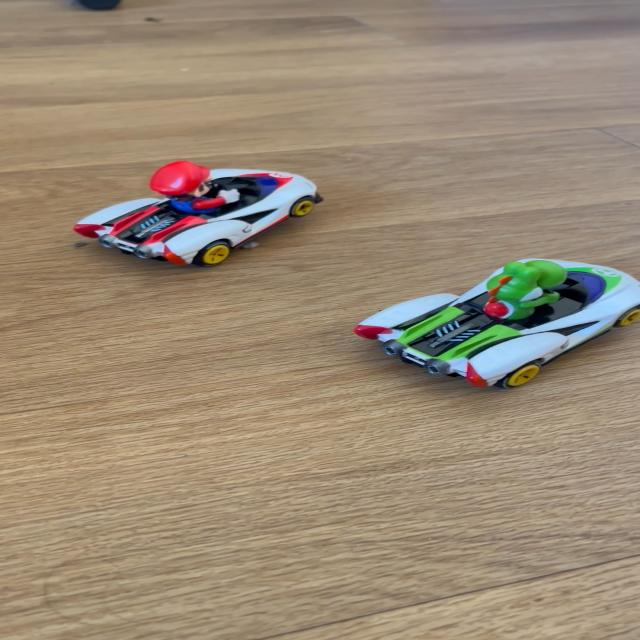mario: (58, 156, 333, 274)
yoshi: (344, 250, 640, 402)
